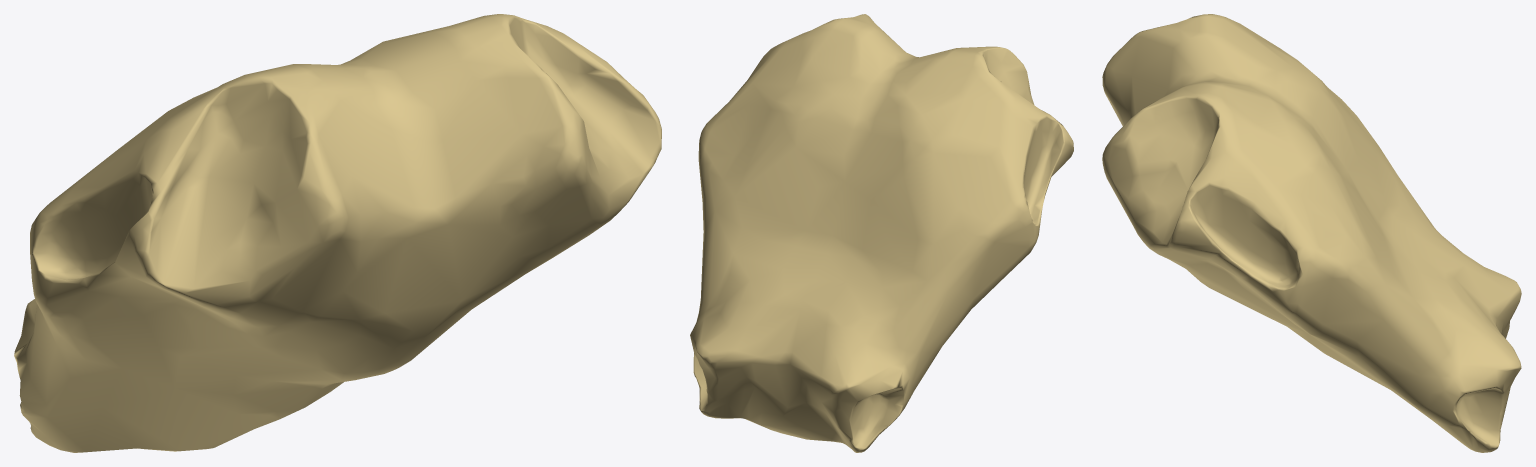
3 renders of one model, left to right at view 1: azimuth 30°, elevation 25°; view 2: azimuth 150°, elevation 25°; view 3: azimuth 270°, elevation 25°, orthographic. The views are drawn at different scales.
Parts seen in each view (by area): view 1: 胸骨柄; view 2: 胸骨柄; view 3: 胸骨柄.
Boxes of the visible parts, x1,y1,x2,y2 form: 胸骨柄: [14, 14, 661, 452]; 胸骨柄: [690, 14, 1073, 452]; 胸骨柄: [1102, 14, 1521, 452].
Bounding box in the file's own units: 0.0841 × 0.077 × 0.0795.
